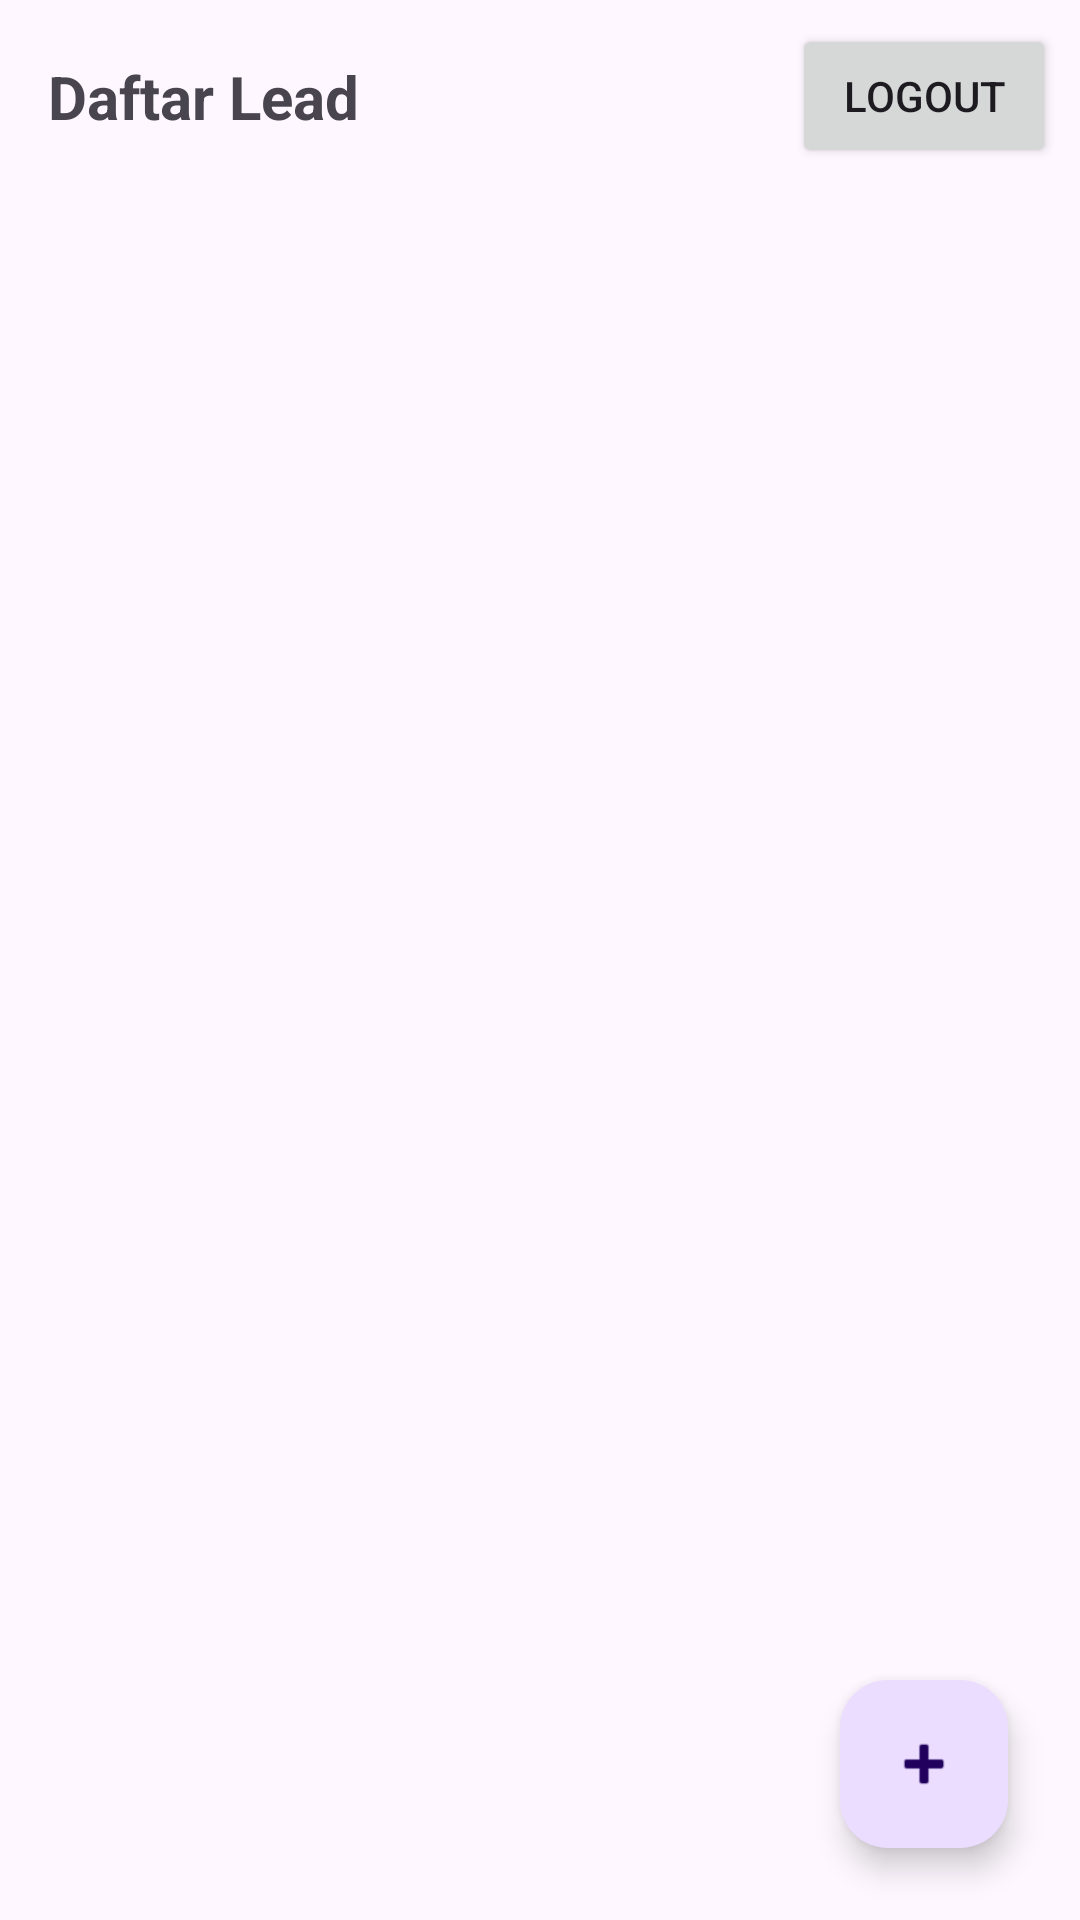

Screen size 1080w x 1920h. Icon name, then its center in pixels as [x,y]:
Tambah Lead: [924,1764]
